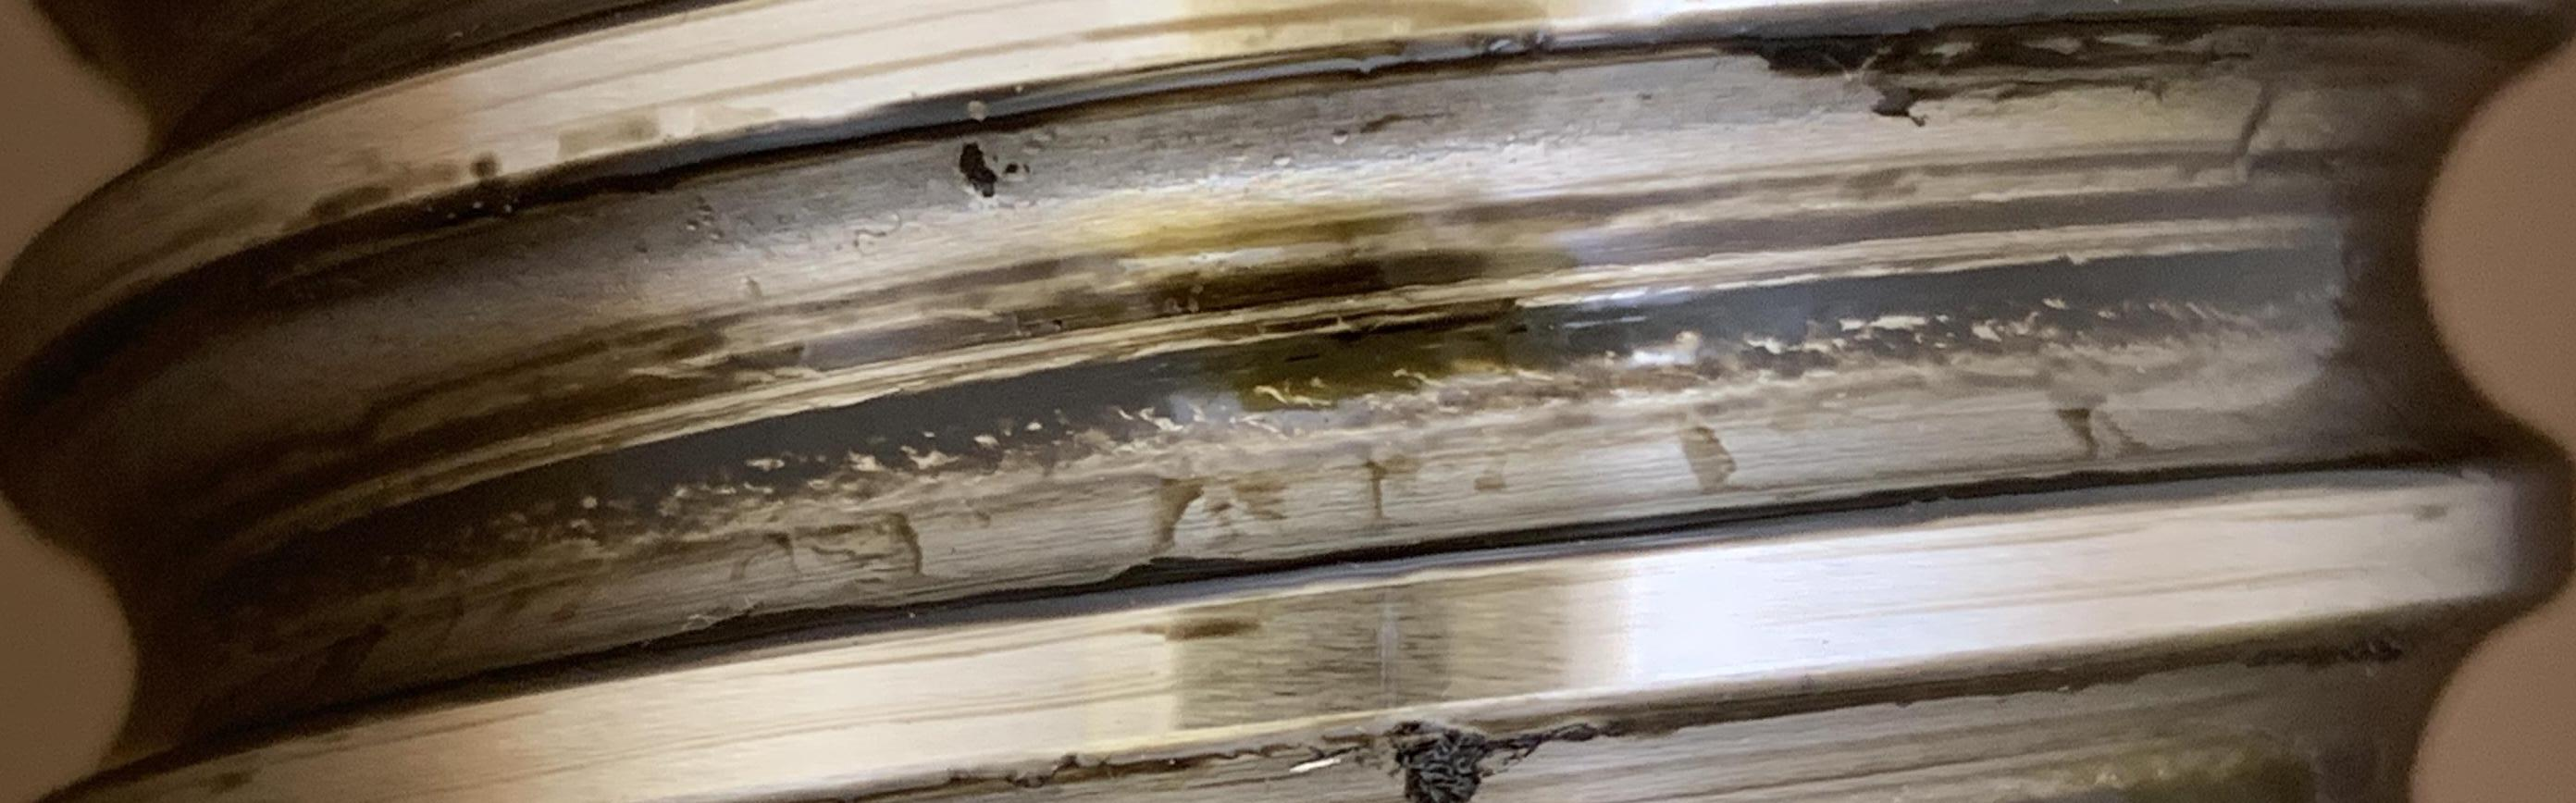pitting: (958, 141, 999, 195), (1005, 163, 1019, 174), (1023, 163, 1030, 172), (992, 156, 997, 163)
